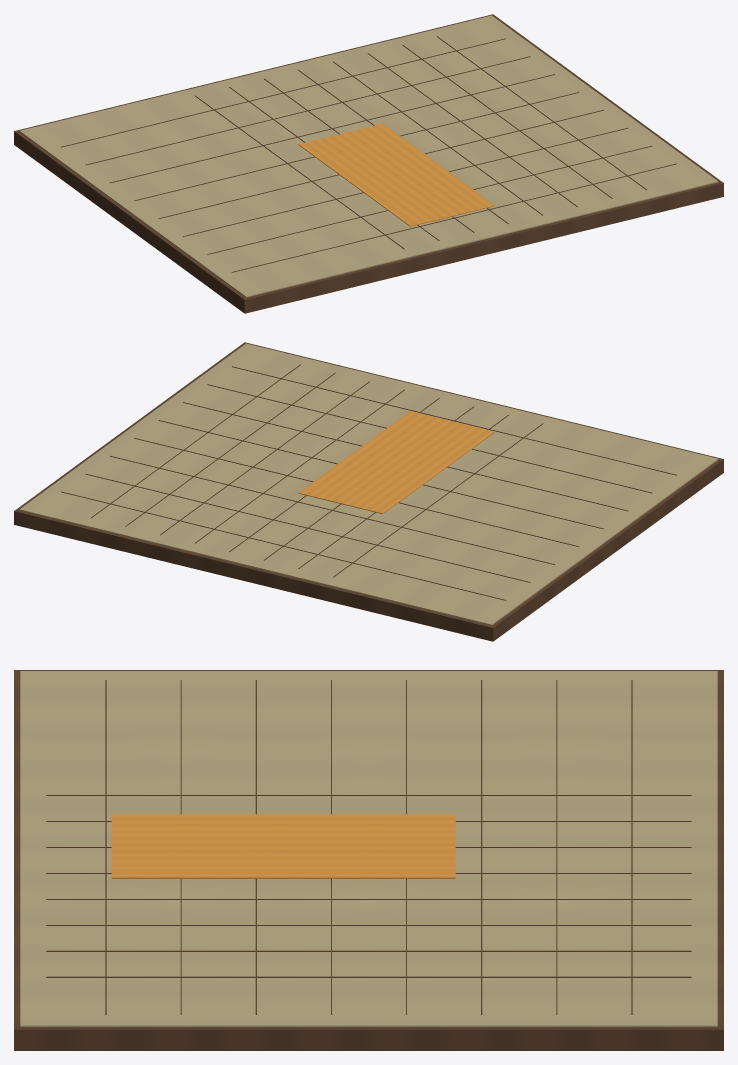
The model's file is atlas100-s016-a07.lod1.glb.
3 views of the same model, one above another, from view 1: azimuth 30°, elevation 25°; view 2: azimuth 150°, elevation 25°; view 3: azimuth 270°, elevation 25° (orthographic). The views are drawn at different scales.
Parts seen in each view (by area): view 1: atlas100-s016-a07:part-001, atlas100-s016-a07:part-000, atlas100-s016-a07:part-021, atlas100-s016-a07:part-014, atlas100-s016-a07:part-020, atlas100-s016-a07:part-015, atlas100-s016-a07:part-013, atlas100-s016-a07:part-016, atlas100-s016-a07:part-018, atlas100-s016-a07:part-019, atlas100-s016-a07:part-017; view 2: atlas100-s016-a07:part-001, atlas100-s016-a07:part-000, atlas100-s016-a07:part-021, atlas100-s016-a07:part-013, atlas100-s016-a07:part-015, atlas100-s016-a07:part-014, atlas100-s016-a07:part-020, atlas100-s016-a07:part-017, atlas100-s016-a07:part-019, atlas100-s016-a07:part-018, atlas100-s016-a07:part-016; view 3: atlas100-s016-a07:part-001, atlas100-s016-a07:part-000, atlas100-s016-a07:part-021, atlas100-s016-a07:part-011, atlas100-s016-a07:part-012, atlas100-s016-a07:part-013, atlas100-s016-a07:part-014, atlas100-s016-a07:part-015, atlas100-s016-a07:part-020, atlas100-s016-a07:part-010, atlas100-s016-a07:part-009, atlas100-s016-a07:part-005.
Boxes of the visible parts, left/top/right/bottom form: atlas100-s016-a07:part-001: left=19, top=15, right=718, bottom=297; atlas100-s016-a07:part-000: left=14, top=14, right=723, bottom=313; atlas100-s016-a07:part-021: left=298, top=123, right=494, bottom=226; atlas100-s016-a07:part-014: left=85, top=56, right=530, bottom=165; atlas100-s016-a07:part-020: left=231, top=163, right=676, bottom=272; atlas100-s016-a07:part-015: left=110, top=74, right=554, bottom=183; atlas100-s016-a07:part-013: left=61, top=38, right=505, bottom=147; atlas100-s016-a07:part-016: left=134, top=92, right=579, bottom=201; atlas100-s016-a07:part-018: left=183, top=127, right=627, bottom=236; atlas100-s016-a07:part-019: left=207, top=145, right=652, bottom=254; atlas100-s016-a07:part-017: left=158, top=110, right=603, bottom=218; atlas100-s016-a07:part-001: left=19, top=343, right=718, bottom=625; atlas100-s016-a07:part-000: left=14, top=342, right=723, bottom=641; atlas100-s016-a07:part-021: left=298, top=411, right=494, bottom=513; atlas100-s016-a07:part-013: left=61, top=491, right=506, bottom=600; atlas100-s016-a07:part-015: left=110, top=455, right=554, bottom=564; atlas100-s016-a07:part-014: left=85, top=473, right=530, bottom=582; atlas100-s016-a07:part-020: left=232, top=366, right=676, bottom=475; atlas100-s016-a07:part-017: left=158, top=420, right=603, bottom=529; atlas100-s016-a07:part-019: left=207, top=384, right=652, bottom=493; atlas100-s016-a07:part-018: left=183, top=402, right=627, bottom=511; atlas100-s016-a07:part-016: left=134, top=438, right=579, bottom=546; atlas100-s016-a07:part-001: left=20, top=671, right=717, bottom=1026; atlas100-s016-a07:part-000: left=14, top=670, right=723, bottom=1050; atlas100-s016-a07:part-021: left=111, top=814, right=455, bottom=878; atlas100-s016-a07:part-011: left=46, top=950, right=691, bottom=951; atlas100-s016-a07:part-012: left=46, top=976, right=691, bottom=977; atlas100-s016-a07:part-013: left=631, top=680, right=632, bottom=1014; atlas100-s016-a07:part-014: left=556, top=680, right=557, bottom=1014; atlas100-s016-a07:part-015: left=481, top=680, right=482, bottom=1014; atlas100-s016-a07:part-020: left=105, top=680, right=106, bottom=1014; atlas100-s016-a07:part-010: left=46, top=925, right=691, bottom=925; atlas100-s016-a07:part-009: left=46, top=899, right=691, bottom=899; atlas100-s016-a07:part-005: left=46, top=795, right=691, bottom=795.
Bounding box in the file's own units: 12.46 × 0.404 × 10.4.
3 materials, 3 textured.
